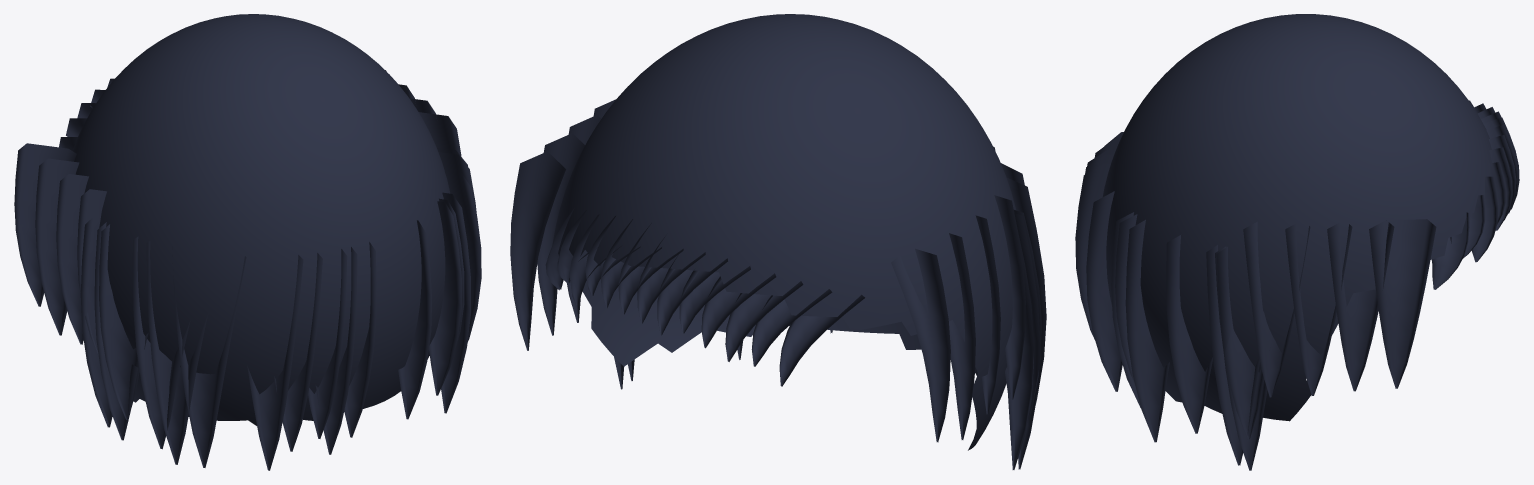
File: anime_hair_short.glb
3 views of the same model, side by side, from view 1: azimuth 30°, elevation 25°; view 2: azimuth 150°, elevation 25°; view 3: azimuth 270°, elevation 25° (orthographic). The views are drawn at different scales.
Parts seen in each view (by area): view 1: hair_cap, hair; view 2: hair_cap, hair; view 3: hair_cap, hair.
Part boxes in pixels (x1,y1,x2,y2): hair_cap: (72,14,450,425); hair: (14,70,481,470); hair_cap: (552,14,1015,450); hair: (510,99,1046,469); hair_cap: (1102,14,1491,421); hair: (1075,100,1519,470).
Bounding box in the file's own units: 0.3116 × 0.2838 × 0.3174.
